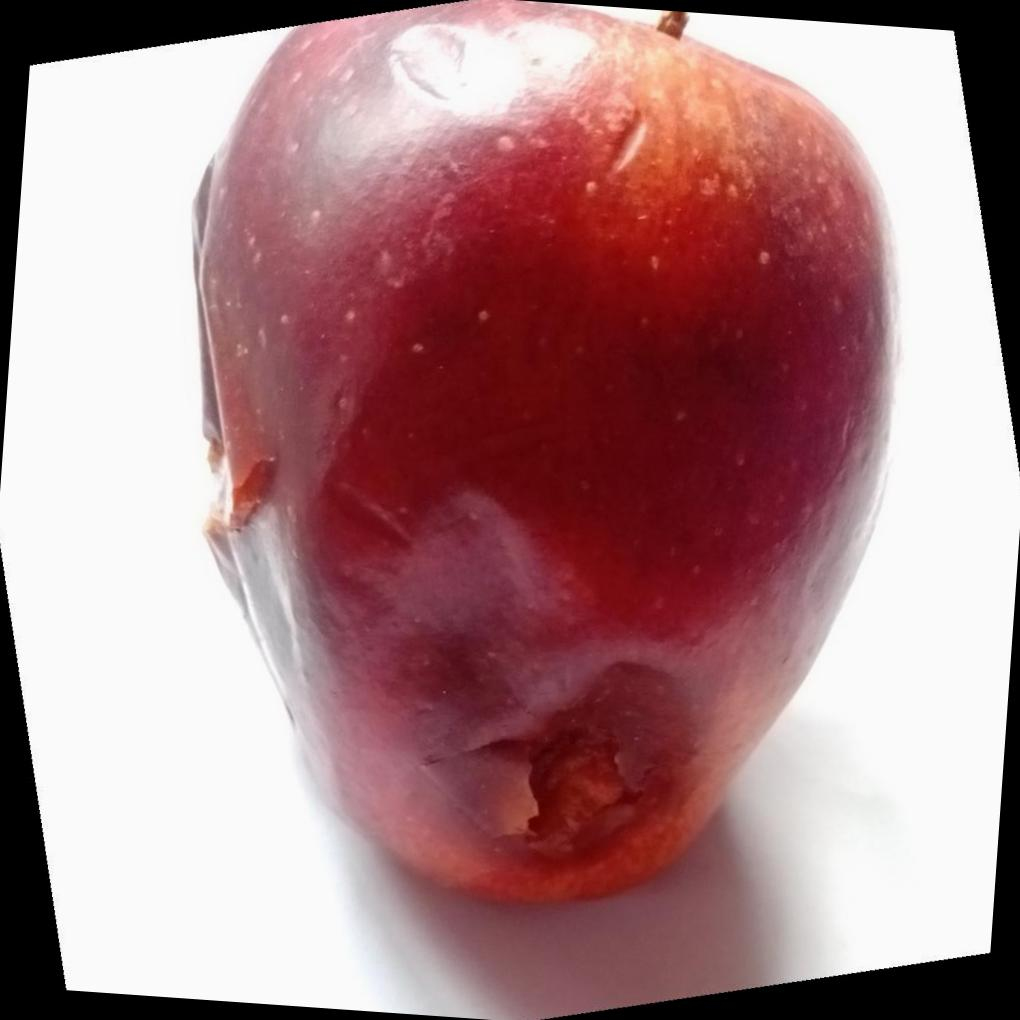FreshOrange: (193, 0, 901, 907)
